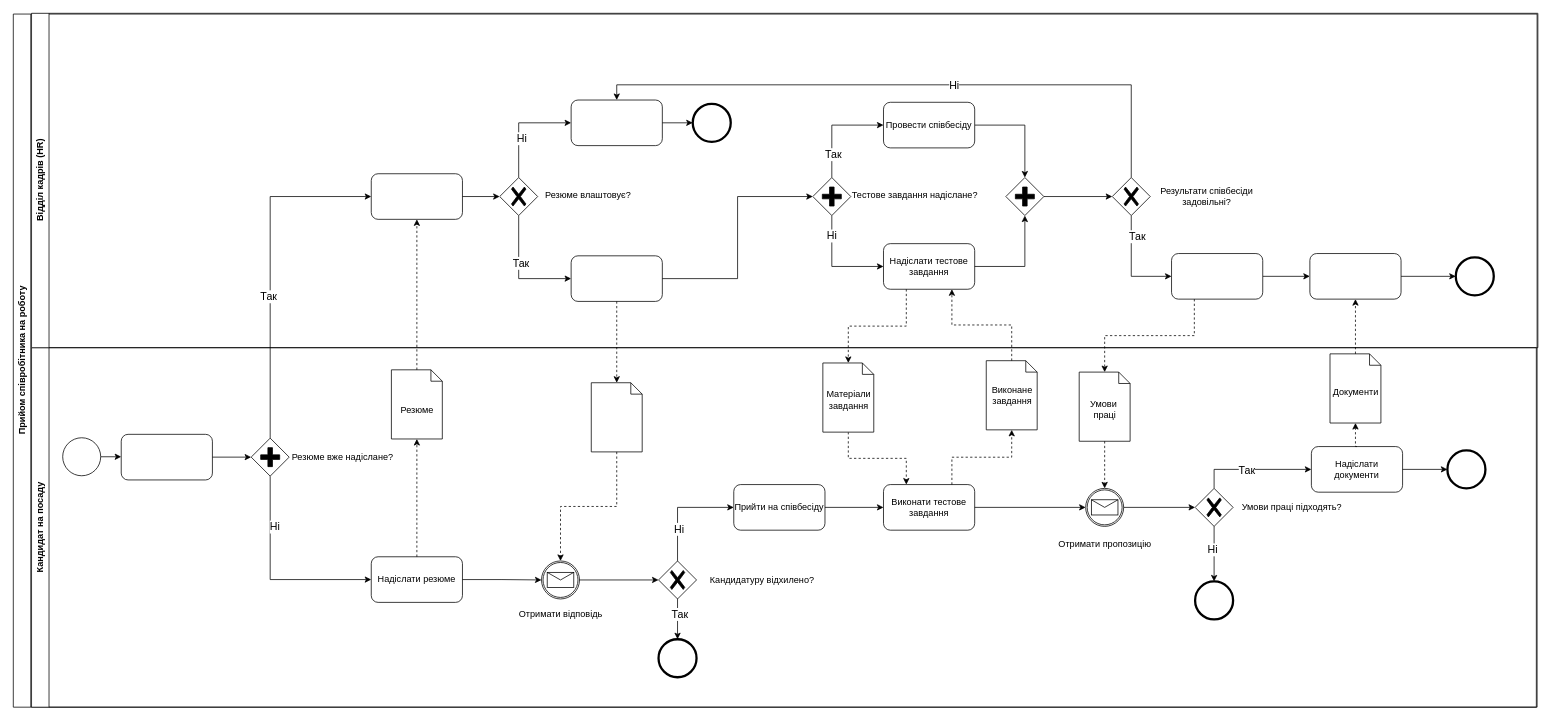
Image size: 1551x720. Some labels were removed from this diagram. Here are the shapes that lost their labels. From the top down, the centre of each, then its label:
point (616, 122): Відхилити кандидатуру
point (416, 196): Перевірити резюме
point (616, 278): Назначити співбесіду
point (1217, 276): Надіслати пропозицію з умовами праці
point (1355, 276): Прийняти кандидата на роботу
point (616, 417): Розклад співбесіди
point (166, 457): Створити резюме
